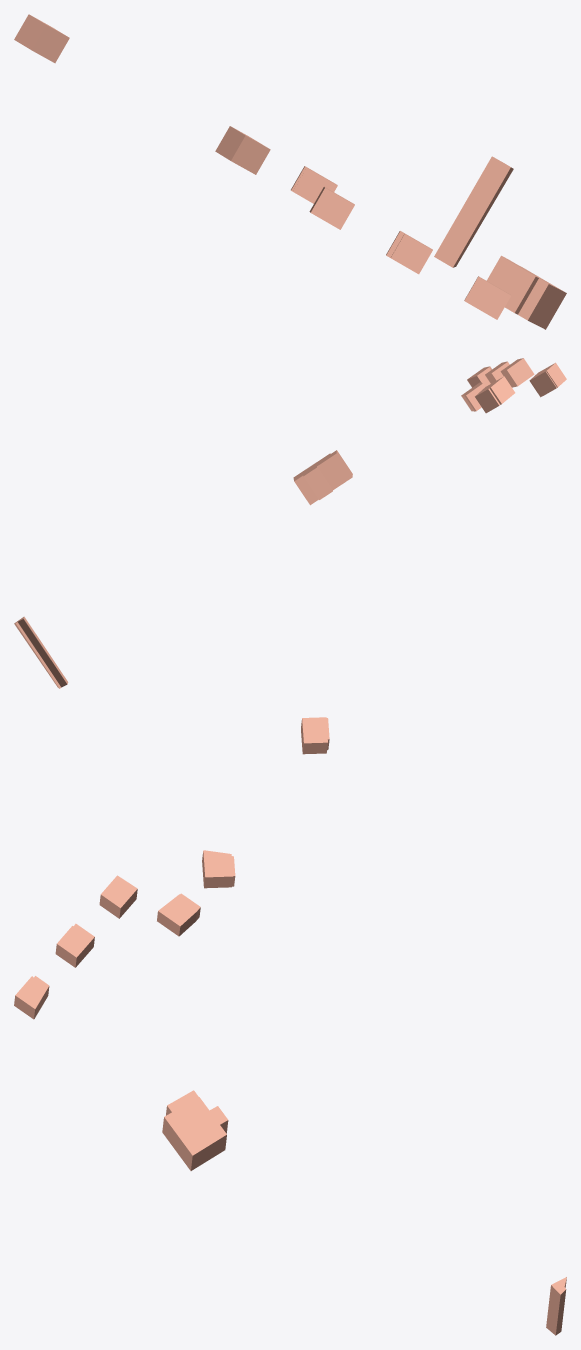
3 renders of one model, top to bottom at view 1: azimuth 30°, elevation 25°; view 2: azimuth 150°, elevation 25°; view 3: azimuth 270°, elevation 25°, orthographic. The views are drawn at different scales.
Bounding box in the file's own units: 114 × 84 × 106.
